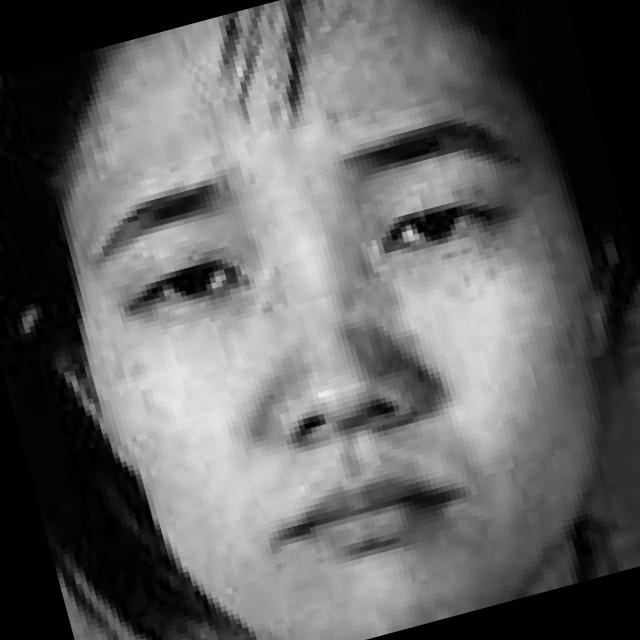sad: (0, 9, 639, 640)
